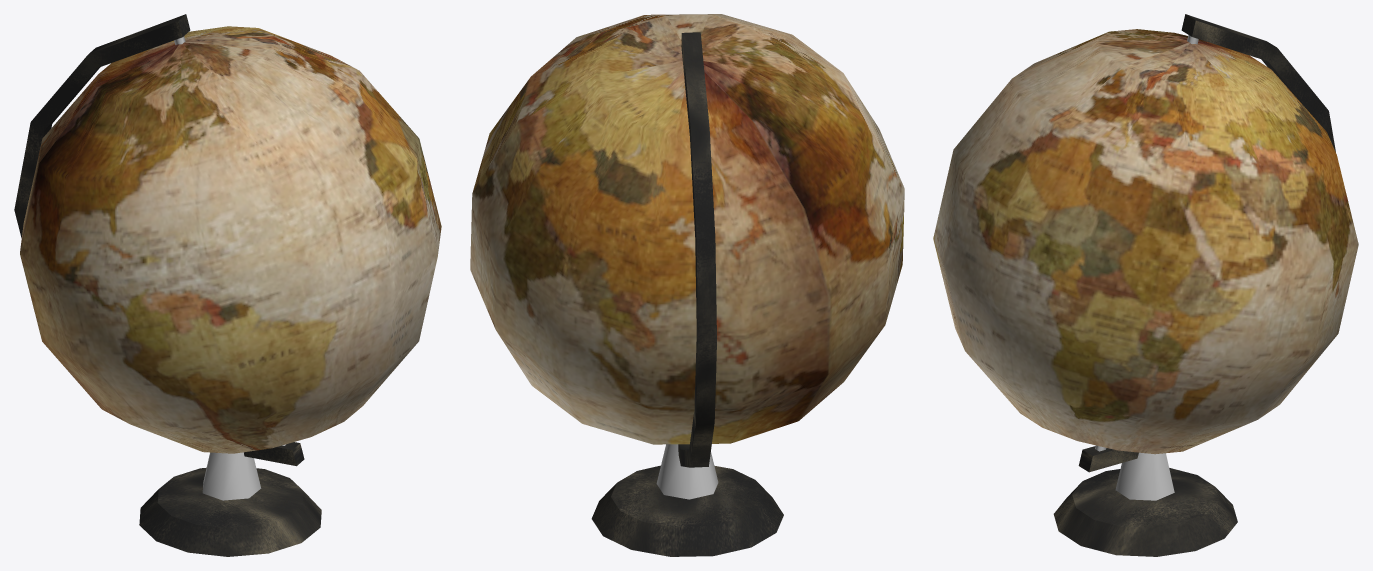
File: map_earth.FBX
3 renders of one model, left to right at view 1: azimuth 30°, elevation 25°; view 2: azimuth 150°, elevation 25°; view 3: azimuth 270°, elevation 25°, orthographic. The views are drawn at different scales.
Parts seen in each view (by area): view 1: map_earth; view 2: map_earth; view 3: map_earth.
Part boxes in pixels (x1,y1,x2,y2): map_earth: [14, 14, 441, 556]; map_earth: [470, 14, 904, 556]; map_earth: [933, 14, 1358, 556].
Size of the model in its own units: 0.3111 by 0.3958 by 0.3125.
